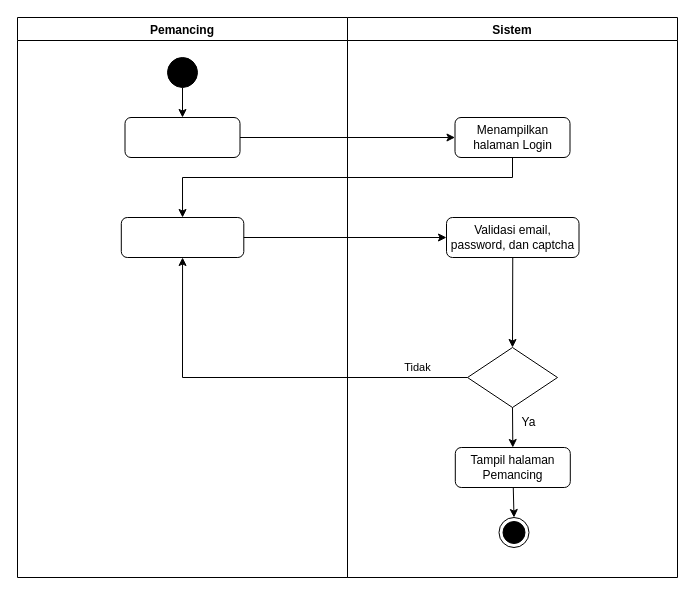
Some shapes in this 695 by 595 pixel diagram are drawn without their labels. Each missing label, with the centre of its shape:
"Data valid?" goes at [512,377].
"Input email, password, dan captcha" goes at [182,237].
"Masuk ke halaman Login" goes at [182,137].
